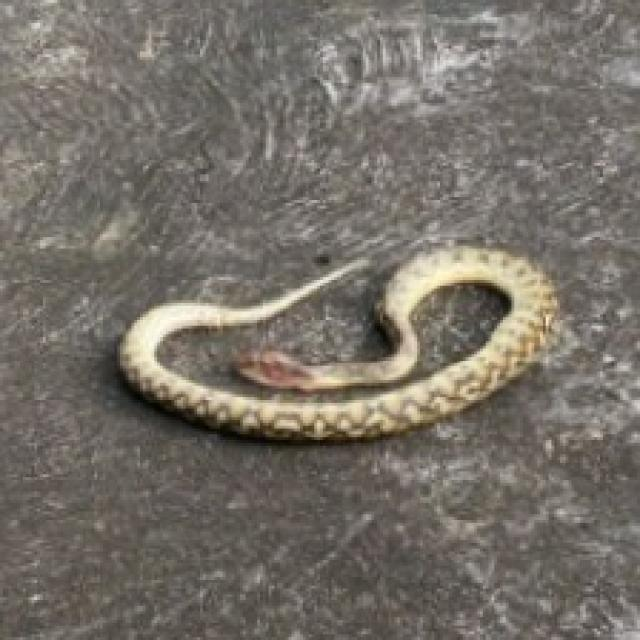reticulated python: (117, 246, 554, 440)
